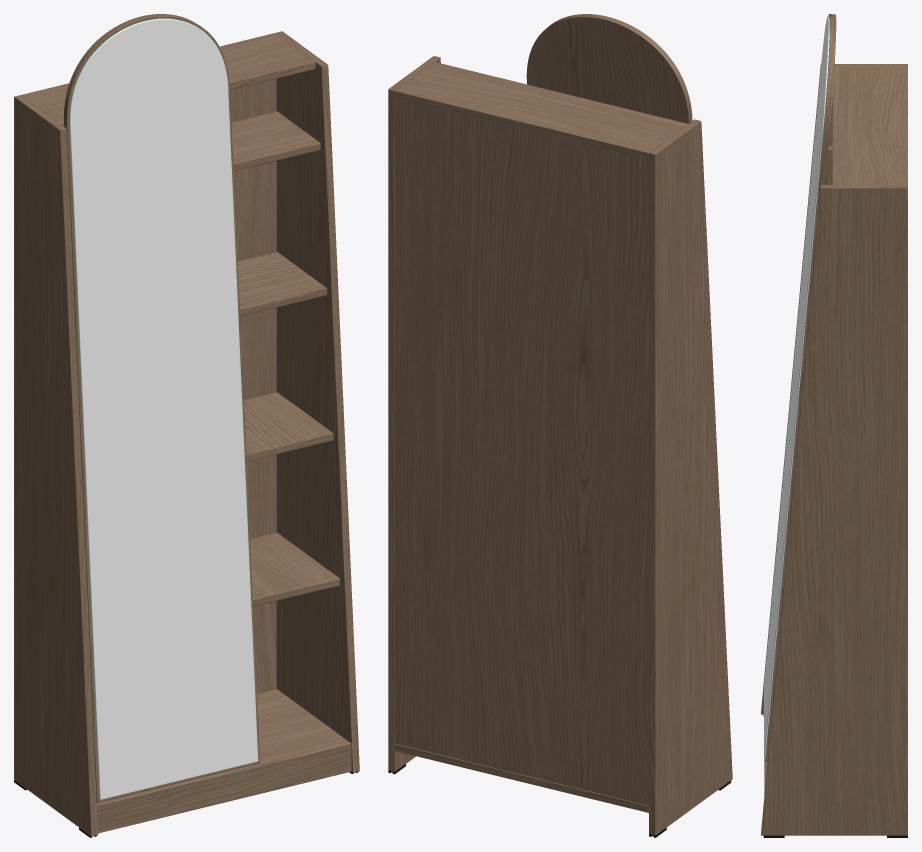
3 renders of one model, left to right at view 1: azimuth 30°, elevation 25°; view 2: azimuth 150°, elevation 25°; view 3: azimuth 270°, elevation 25°, orthographic. The views are drawn at different scales.
Parts seen in each view (by area): view 1: 7408; view 2: 7408; view 3: 7408.
Part boxes in pixels (left/top/right/bottom): 7408: left=14, top=14, right=359, bottom=837; 7408: left=388, top=14, right=732, bottom=837; 7408: left=761, top=14, right=907, bottom=837.
Bounding box in the file's own units: 0.6 × 1.65 × 0.3.
Materials: 1 (1 with a texture image).
